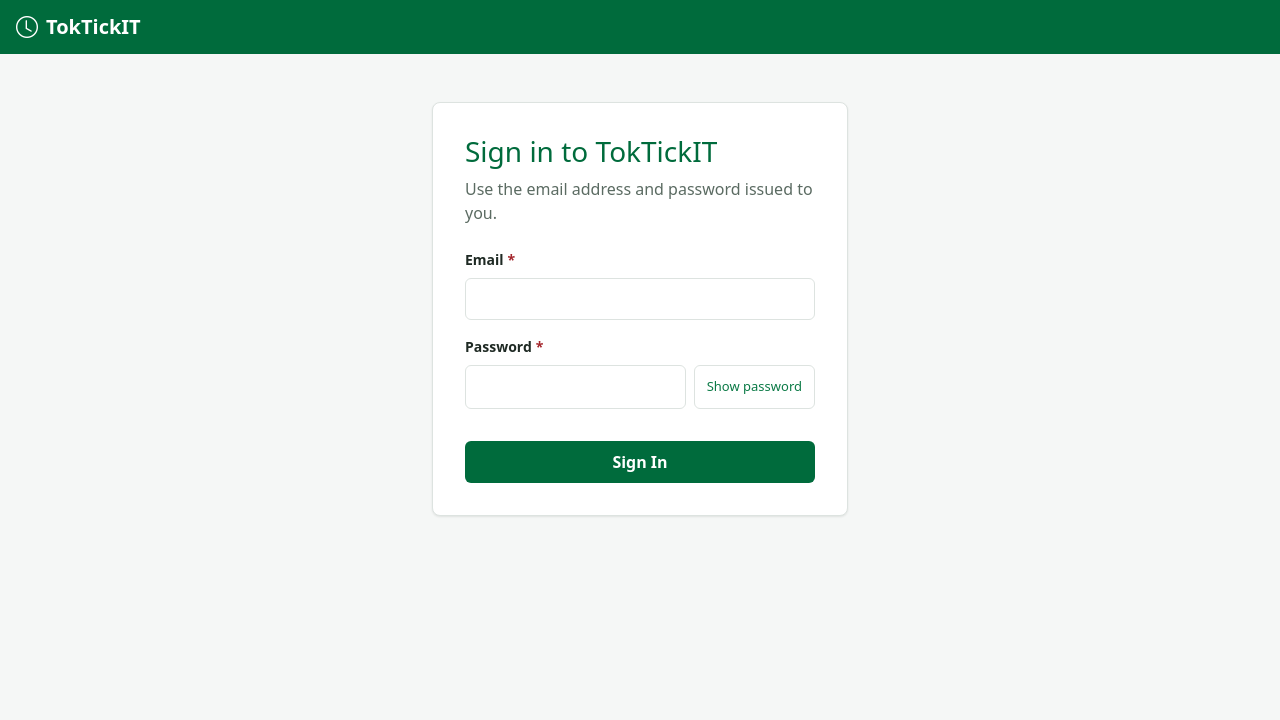
Test case: UI-02 validation › reports each empty field beneath the control it concerns
What coordinates should you click on to do the following:
click the button "Sign In"
I would click on:
 (640, 462)
Its box is [465, 441, 815, 483].
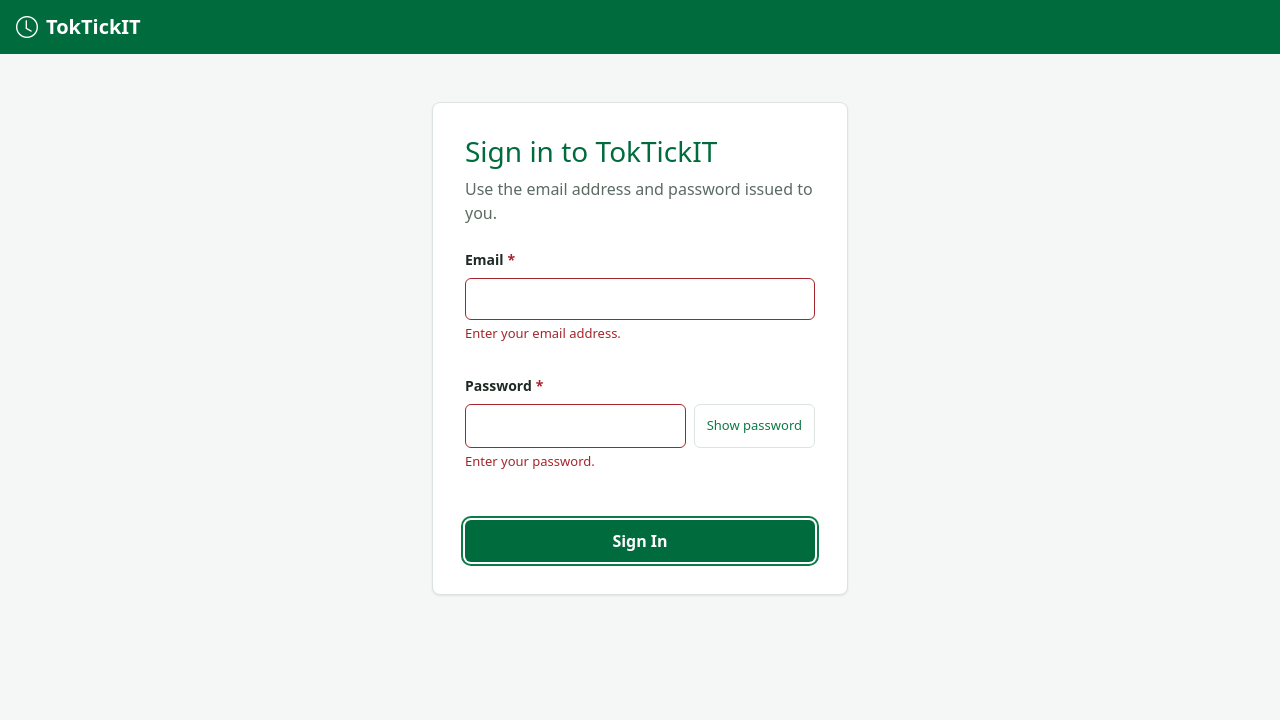
Check: the text "Enter your email address." is shown, box [465, 324, 621, 342]
Check: the text "Enter your password." is shown, box [465, 452, 595, 470]
